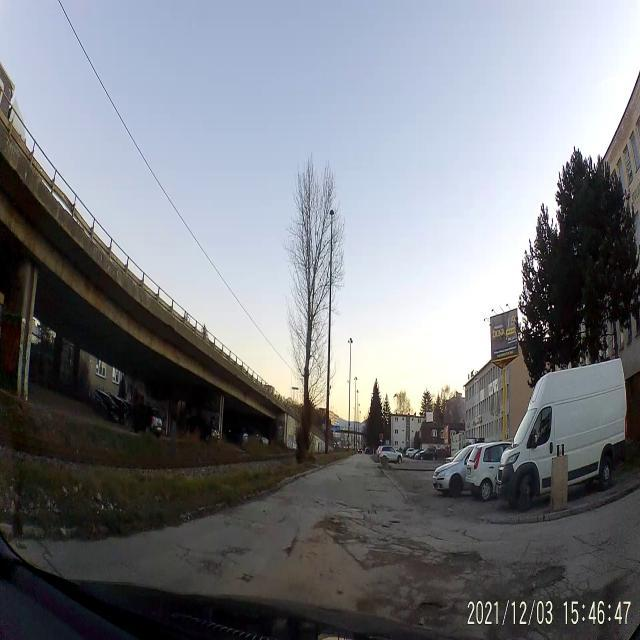Pothole: (525, 557, 568, 595), (444, 546, 486, 572), (416, 592, 449, 618), (284, 526, 300, 565), (199, 554, 223, 578), (218, 544, 249, 558), (366, 484, 390, 496), (239, 574, 256, 586), (335, 500, 350, 510), (376, 538, 394, 546), (366, 506, 378, 518), (378, 520, 388, 534), (390, 514, 401, 526), (314, 499, 324, 510)
